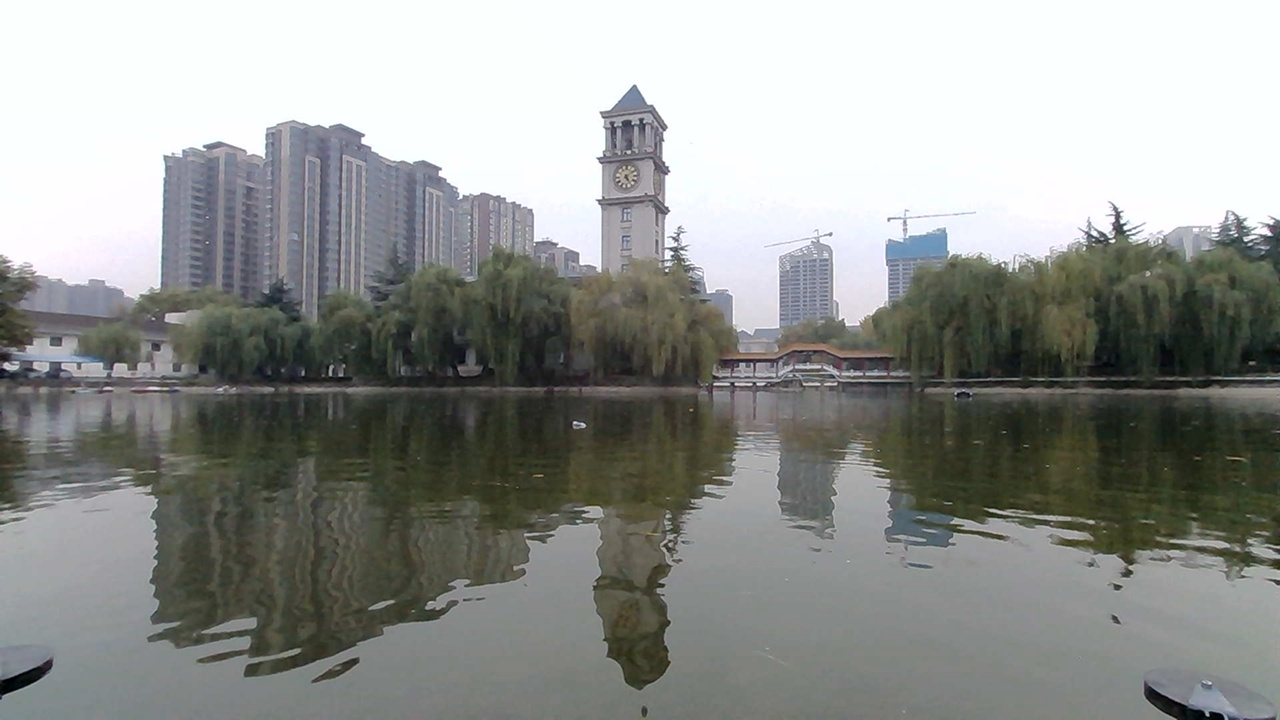bottle: (565, 405, 598, 430)
